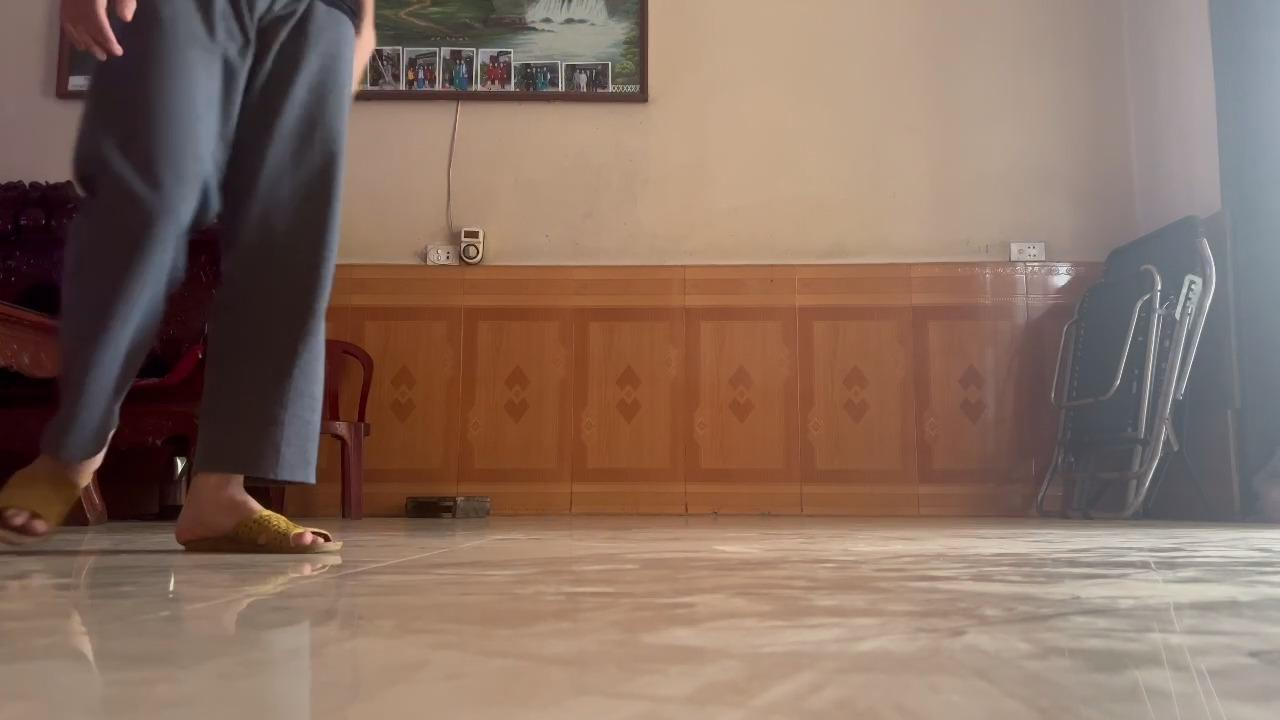no-boot: (169, 489, 354, 560), (0, 452, 115, 553)
